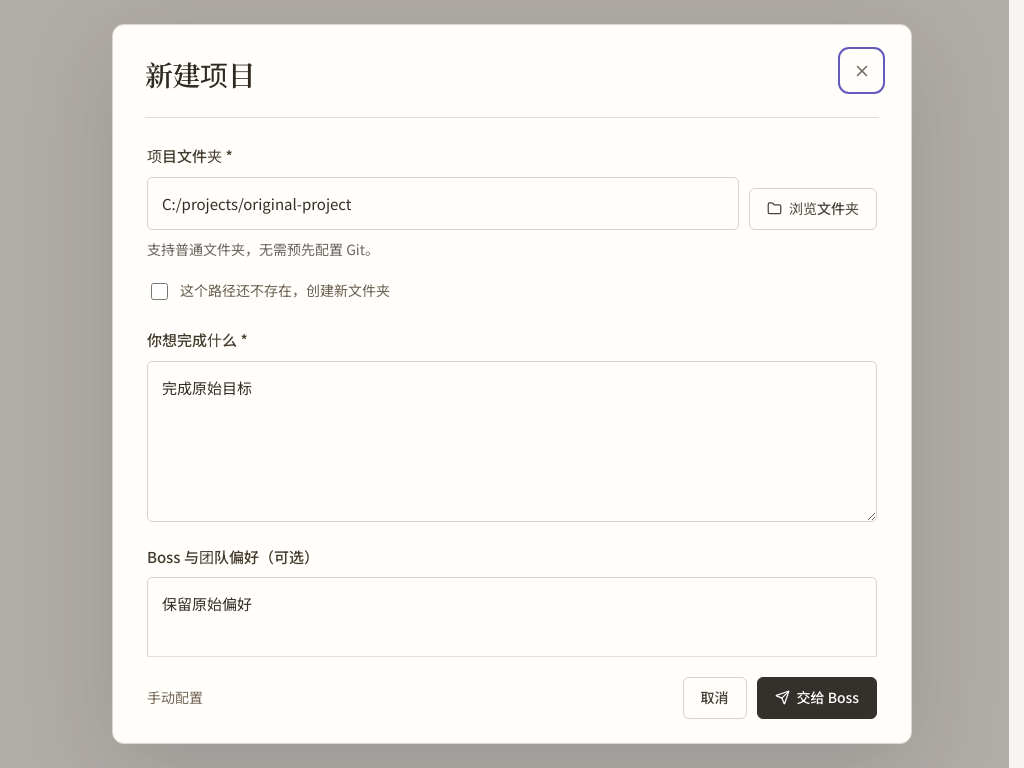
Scenario: preserves a newer typed destination when the previous folder request resolves ignoring abort
The width and height of the screenshot is (1024, 768).
Click the button "浏览文件夹".
click(813, 208)  # box 749,188 -> 877,230
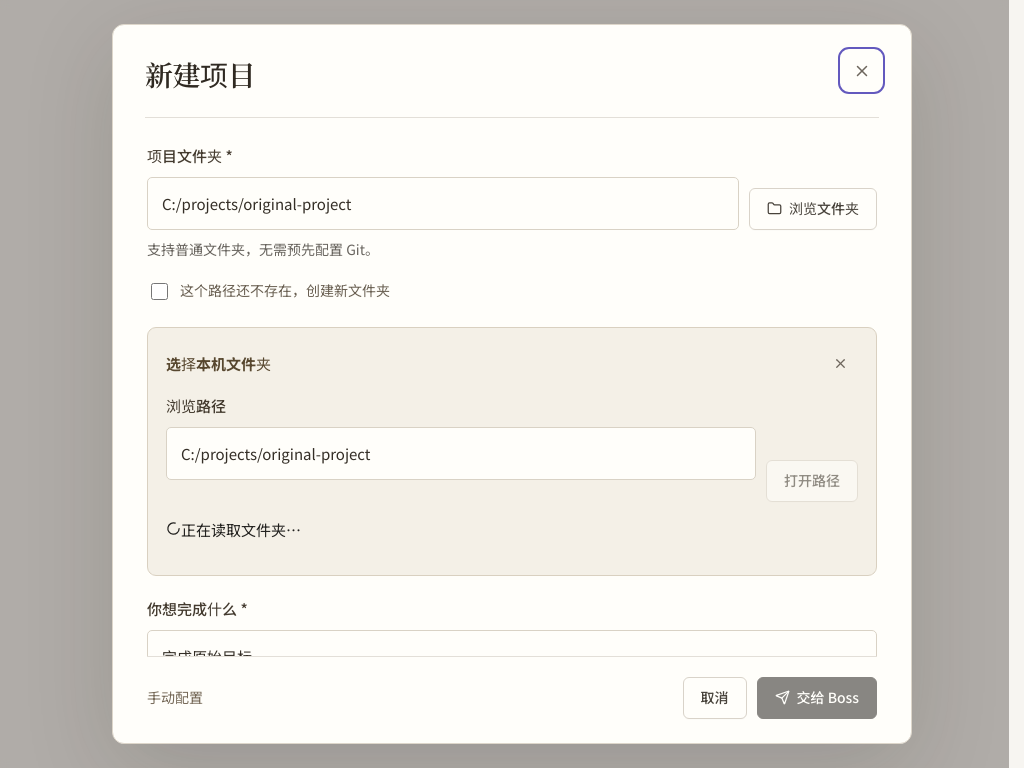
Replace the text in the field labelled "浏览路径" with "C:/projects/intended-parent" at point(461, 453), box 166,427 -> 756,480
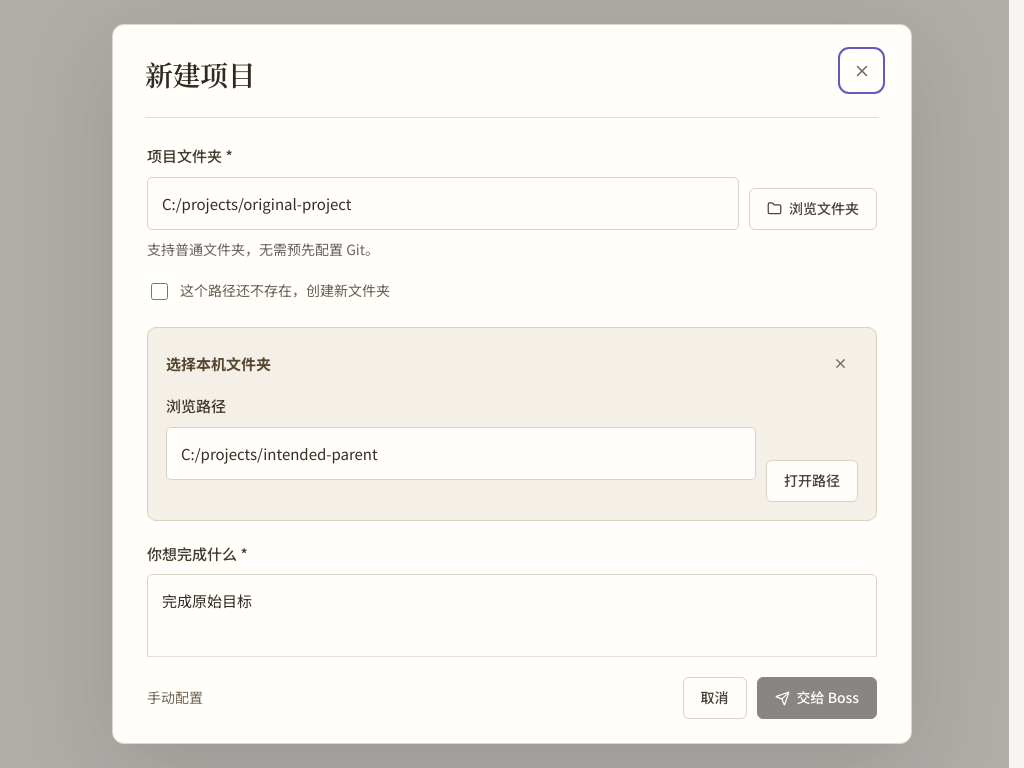
Check: the message "正在读取文件夹…" is gone
